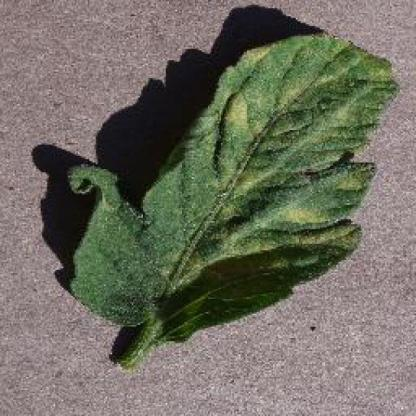Tomato_Leaf_Mold: (68, 34, 399, 339)
